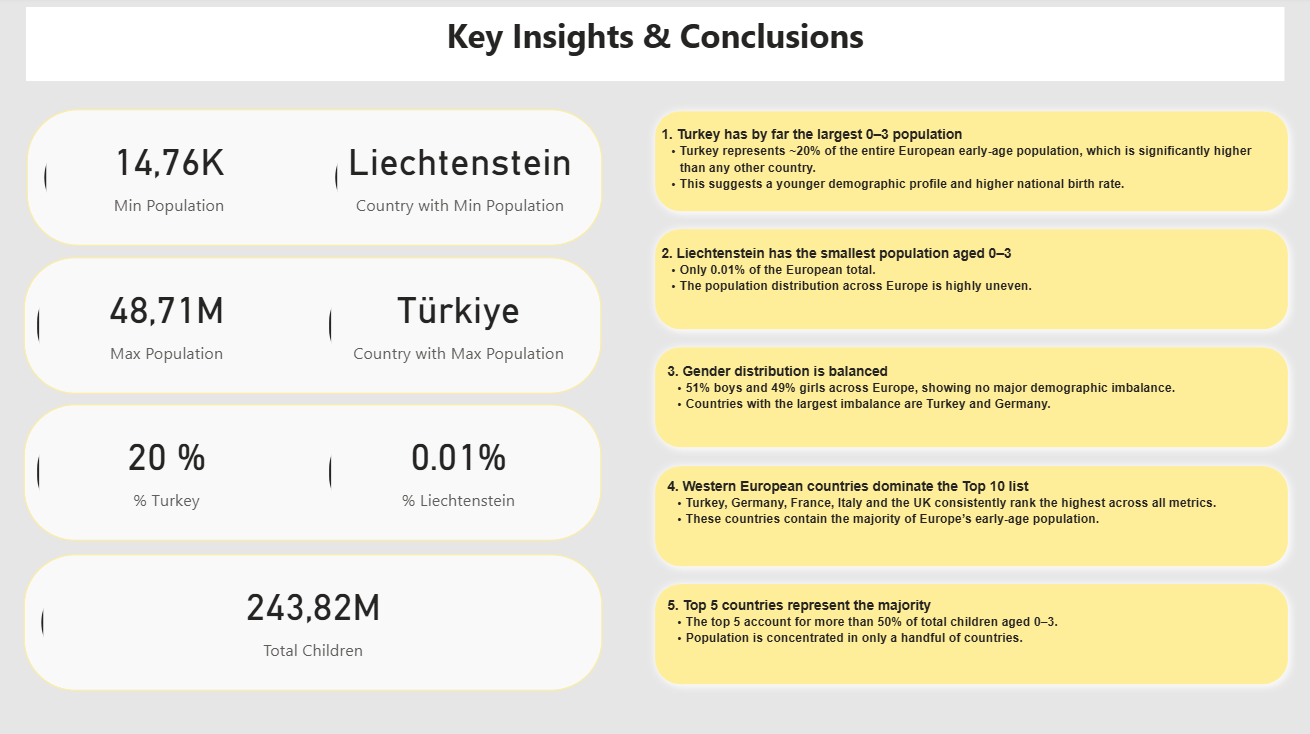

What the dashboard file says about the page in this screenshot:
{"tool":"powerbi","page":{"name":"Page 4","canvas":[1280,720],"ordinal":3},"visuals":[{"type":"shape","box":[630.6,216.9,633.3,115.1],"z":0},{"type":"textbox","box":[26.8,9.4,1223.8,72.3],"z":1000},{"type":"cardVisual","fields":{"Data":["Dim Country.Min Population","Dim Country.Country with Min Population"]},"box":[2.7,104.4,610.5,143.3],"z":2000},{"type":"cardVisual","fields":{"Data":["Dim Country.Max Population","Dim Country.Top Country"]},"box":[0,247.7,613.2,143.3],"z":3000},{"type":"cardVisual","fields":{"Data":["Dim Country.Top Country Share","Dim Country.% Liechtenstein"]},"box":[0,391,613.2,143.3],"z":4000},{"type":"cardVisual","fields":{"Data":["Dim Country.Total Children"]},"box":[0,536.9,613.2,143.3],"z":5000},{"type":"shape","box":[630.6,101.8,633.3,115.1],"z":7000},{"type":"textbox","box":[640,101.8,607.9,115.1],"z":8000},{"type":"textbox","box":[640,234.3,607.9,83],"z":9000},{"type":"shape","box":[630.6,332.1,633.3,115.1],"z":9500},{"type":"textbox","box":[645.4,349.5,605.2,80.3],"z":10000},{"type":"shape","box":[630.6,447.2,633.3,115.1],"z":10001},{"type":"shape","box":[630.6,562.3,633.3,115.1],"z":10003},{"type":"textbox","box":[645.4,460.6,605.2,143.3],"z":10004},{"type":"textbox","box":[645.4,577.1,605.2,143.3],"z":10005}]}

Visuals, with their boxes in screenshot pixels (x1, y1, x2, y2), scaled from the page's 1280x720 canvas onto the 1310x734 screenshot:
shape: select_region(645, 221, 1294, 338)
textbox: select_region(27, 10, 1280, 83)
cardVisual - Dim Country.Min Population x Dim Country.Country with Min Population: select_region(3, 106, 628, 253)
cardVisual - Dim Country.Max Population x Dim Country.Top Country: select_region(0, 253, 628, 399)
cardVisual - Dim Country.Top Country Share x Dim Country.% Liechtenstein: select_region(0, 399, 628, 545)
cardVisual - Dim Country.Total Children: select_region(0, 547, 628, 693)
shape: select_region(645, 104, 1294, 221)
textbox: select_region(655, 104, 1277, 221)
textbox: select_region(655, 239, 1277, 323)
shape: select_region(645, 339, 1294, 456)
textbox: select_region(661, 356, 1280, 438)
shape: select_region(645, 456, 1294, 573)
shape: select_region(645, 573, 1294, 691)
textbox: select_region(661, 470, 1280, 616)
textbox: select_region(661, 588, 1280, 733)
